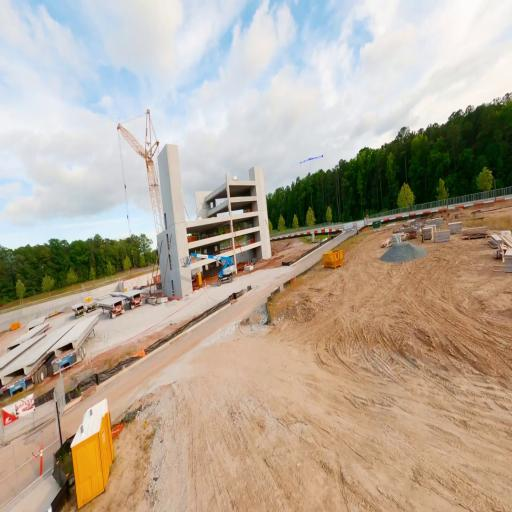uav: (298, 151, 324, 167)
